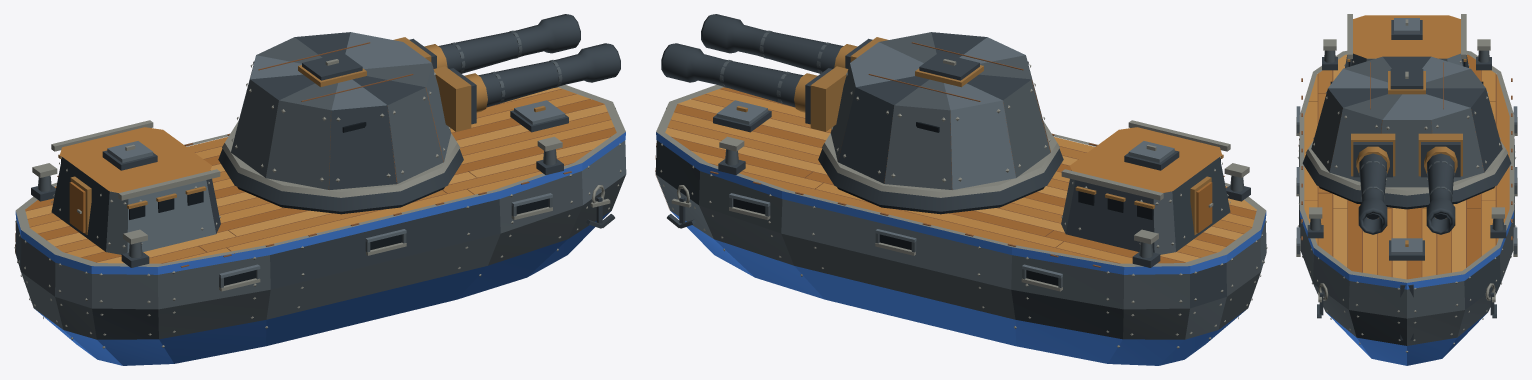
The picture shows the model from 3 angles, left to right: view 1: azimuth 30°, elevation 25°; view 2: azimuth 150°, elevation 25°; view 3: azimuth 270°, elevation 25°; orthographic projection. The views are drawn at different scales.
Parts seen in each view (by area): view 1: hull-upper-armor-3, hull-lower-armor-3, hull-team-lower-3, cabin-roof, turret-sloped-plate-3, turret-sloped-plate-4, gun-hollow-barrel-1, gun-hollow-barrel--1, turret-bearing-armor, cabin-armor-5, turret-sloped-plate-2, hull-lower-armor-4 (+58 smaller); view 2: hull-upper-armor-11, hull-lower-armor-11, hull-team-lower-11, cabin-roof, turret-sloped-plate-7, turret-sloped-plate-6, gun-hollow-barrel--1, gun-hollow-barrel-1, turret-bearing-armor, cabin-armor-1, turret-sloped-plate-8, hull-lower-armor-10 (+58 smaller); view 3: cabin-roof, turret-sloped-plate-0, turret-bearing-armor, gun-hollow-barrel--1, gun-hollow-barrel-1, hull-upper-armor-0, hull-upper-armor-14, turret-sloped-plate-1, turret-sloped-plate-9, hull-lower-armor-0, hull-lower-armor-14, turret-bearing-lip (+63 smaller).
Part boxes in pixels (left/top/right/bottom): hull-upper-armor-3: left=270, top=199, right=500, bottom=289; hull-lower-armor-3: left=266, top=233, right=500, bottom=319; hull-team-lower-3: left=266, top=266, right=487, bottom=346; cabin-roof: left=60, top=127, right=211, bottom=192; turret-sloped-plate-3: left=329, top=105, right=397, bottom=189; turret-sloped-plate-4: left=266, top=100, right=331, bottom=189; gun-hollow-barrel-1: left=478, top=43, right=620, bottom=107; gun-hollow-barrel--1: left=438, top=14, right=580, bottom=73; turret-bearing-armor: left=218, top=148, right=463, bottom=211; cabin-armor-5: left=127, top=180, right=215, bottom=252; turret-sloped-plate-2: left=387, top=87, right=443, bottom=183; hull-lower-armor-4: left=158, top=290, right=270, bottom=339; hull-upper-armor-11: left=781, top=199, right=1011, bottom=289; hull-lower-armor-11: left=781, top=233, right=1015, bottom=319; hull-team-lower-11: left=794, top=266, right=1015, bottom=346; cabin-roof: left=1070, top=127, right=1221, bottom=192; turret-sloped-plate-7: left=884, top=105, right=952, bottom=189; turret-sloped-plate-6: left=950, top=100, right=1015, bottom=189; gun-hollow-barrel--1: left=661, top=43, right=803, bottom=107; gun-hollow-barrel-1: left=701, top=14, right=843, bottom=73; turret-bearing-armor: left=818, top=148, right=1063, bottom=211; cabin-armor-1: left=1066, top=180, right=1154, bottom=252; turret-sloped-plate-8: left=838, top=87, right=893, bottom=183; hull-lower-armor-10: left=1011, top=290, right=1123, bottom=339; cabin-roof: left=1353, top=15, right=1460, bottom=57; turret-sloped-plate-0: left=1381, top=120, right=1432, bottom=187; turret-bearing-armor: left=1302, top=154, right=1511, bottom=207; gun-hollow-barrel--1: left=1426, top=153, right=1455, bottom=234; gun-hollow-barrel-1: left=1358, top=153, right=1387, bottom=234; hull-upper-armor-0: left=1349, top=281, right=1406, bottom=318; hull-upper-armor-14: left=1407, top=281, right=1464, bottom=318; turret-sloped-plate-1: left=1329, top=108, right=1382, bottom=181; turret-sloped-plate-9: left=1431, top=108, right=1484, bottom=181; hull-lower-armor-0: left=1349, top=310, right=1406, bottom=345; hull-lower-armor-14: left=1407, top=310, right=1464, bottom=345; turret-bearing-lip: left=1306, top=141, right=1507, bottom=195.
Size of the model in its own units: 1.65 by 0.632 by 0.647.
